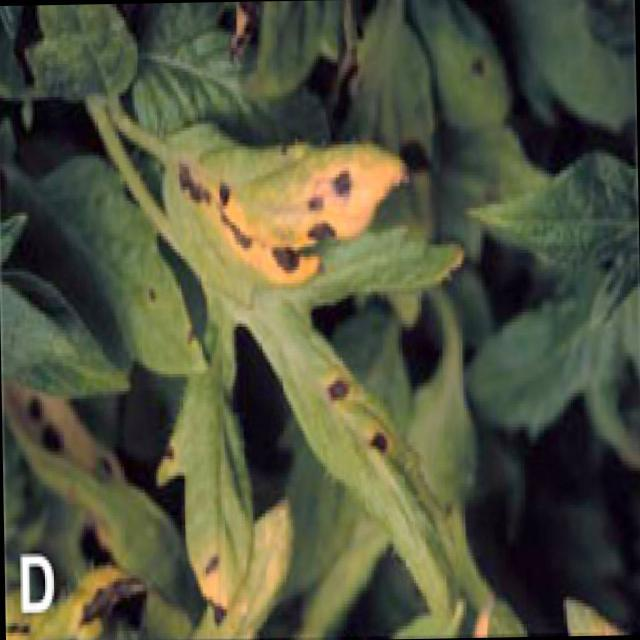Tomato bacterial spot leaf: (154, 113, 443, 623)
